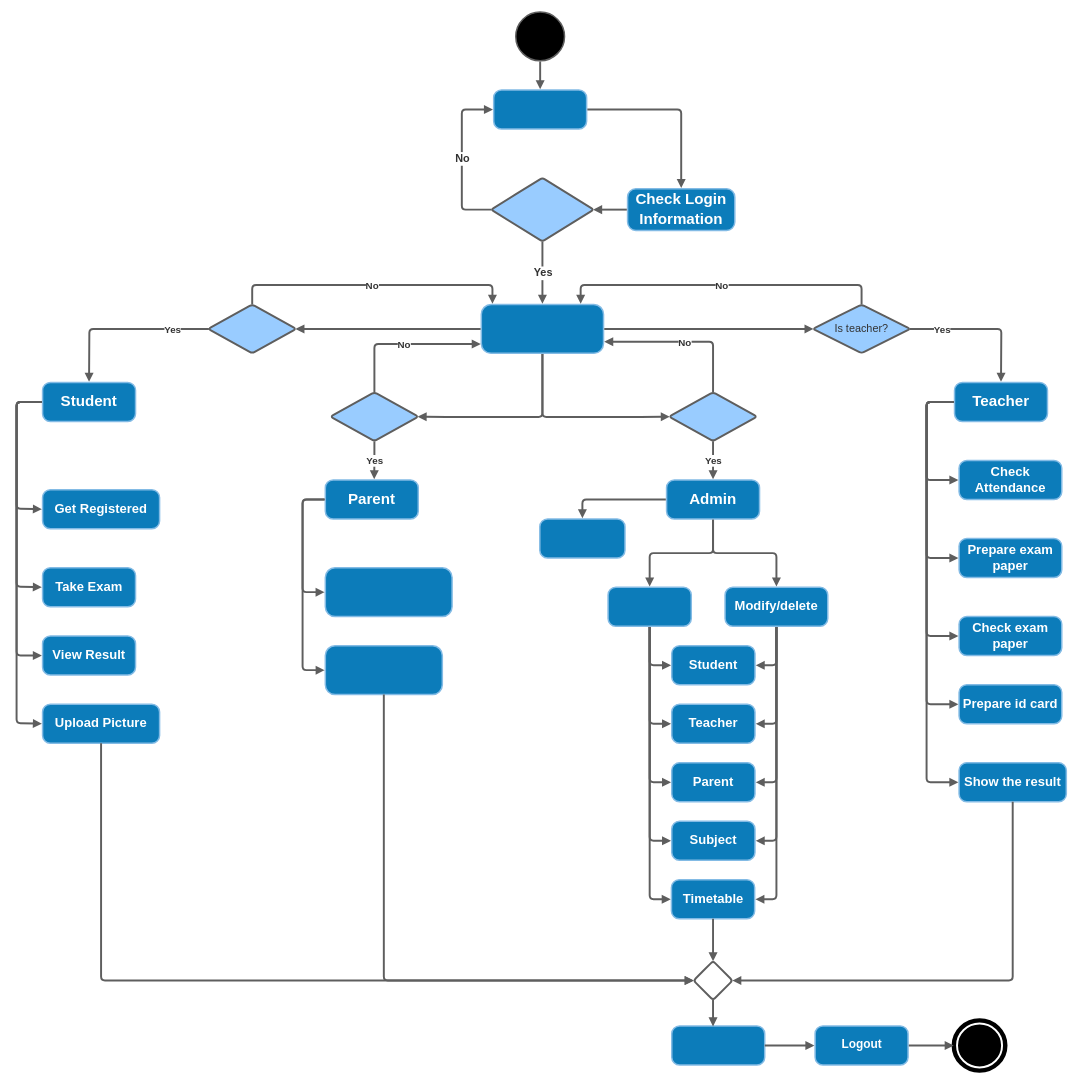
Some shapes in this 1078 by 1082 pixel diagram are drawn without their labels. The centre of each missing label's shape, as x and y in pixels:
Add: pixel 649 606
Check Payment: pixel 582 538
Define the kind of user: pixel 542 328
Is admin?: pixel 713 416
Is parent?: pixel 374 416
Is student?: pixel 252 328
Is varified?: pixel 542 209
Recomendation or make complaint: pixel 388 592
Save Changes: pixel 718 1045
User Login: pixel 540 109
View their children's result: pixel 383 670
